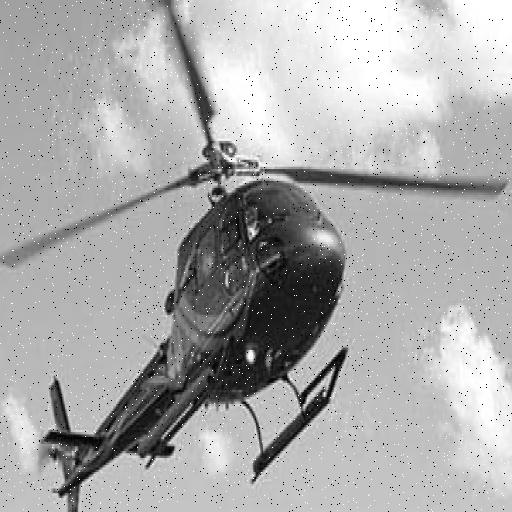helicopter: (1, 1, 510, 512)
